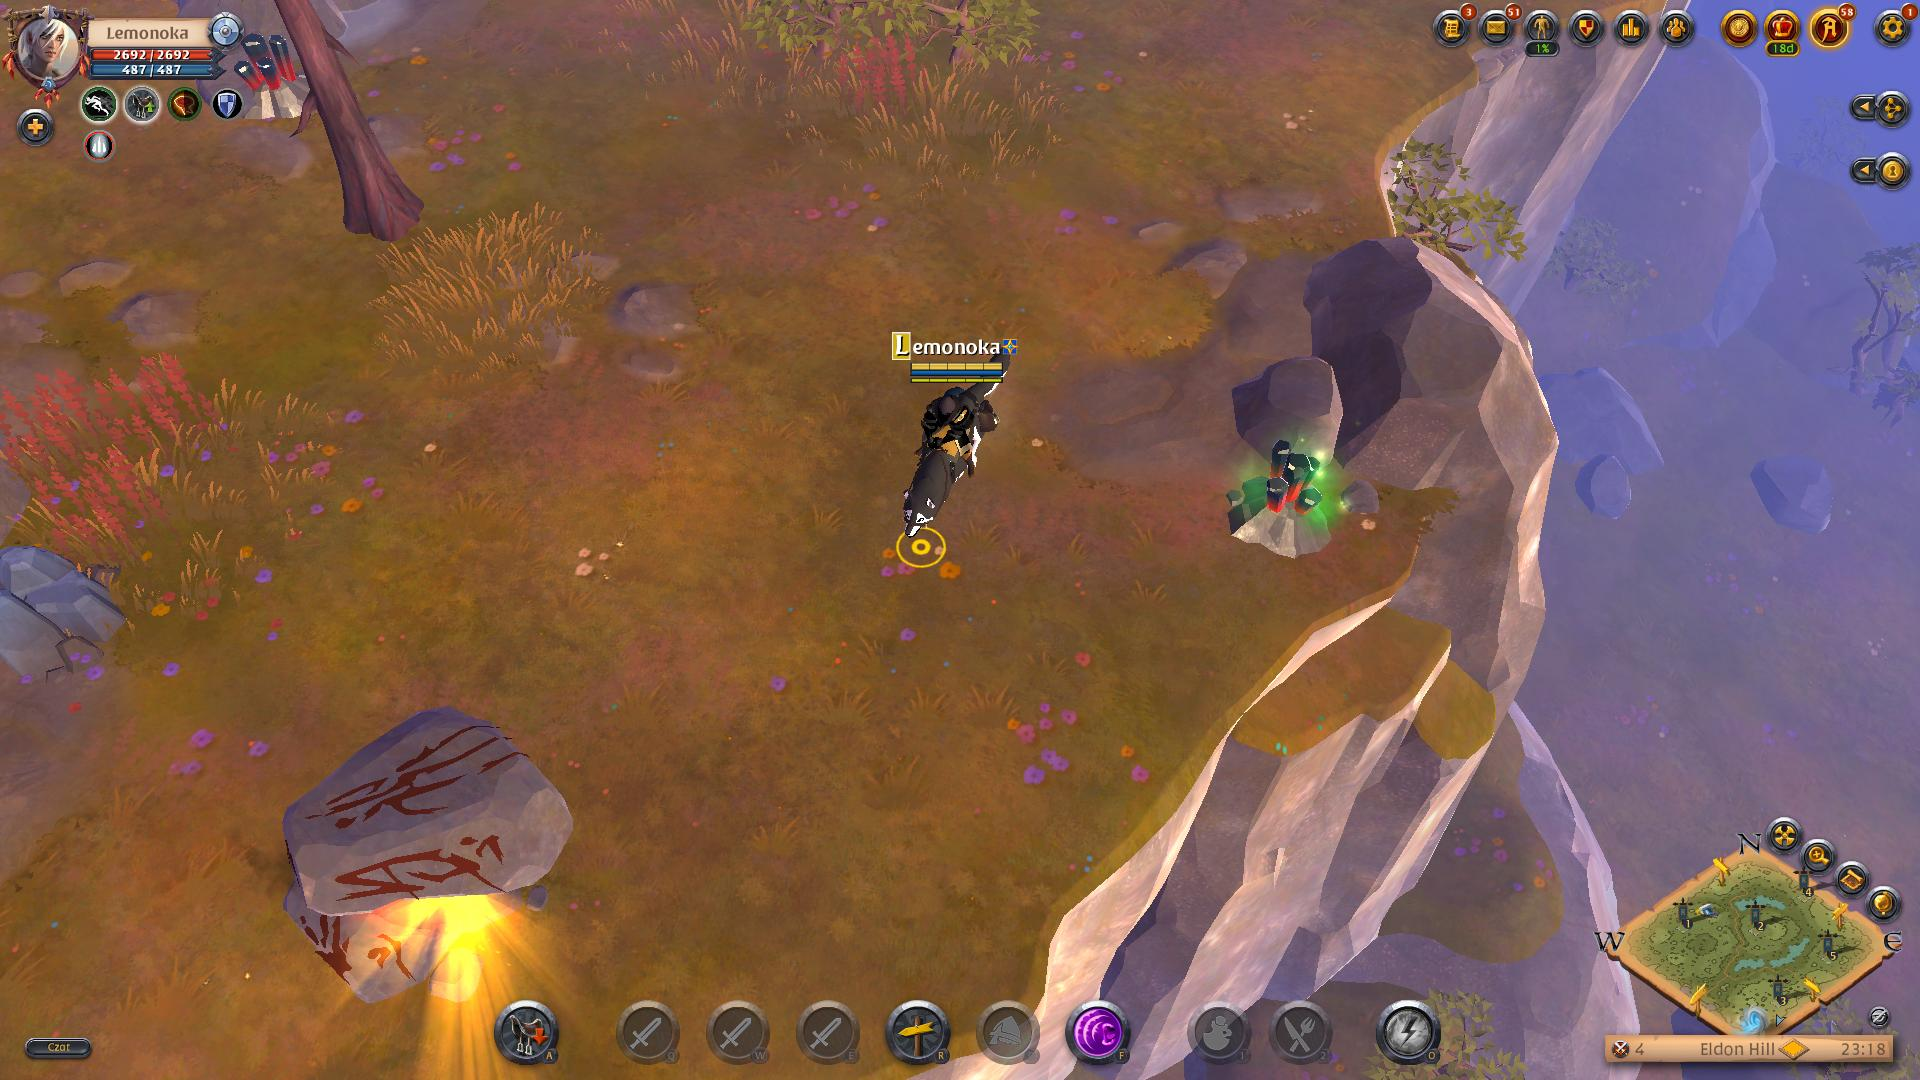ore tier 5: (1218, 438, 1340, 562)
